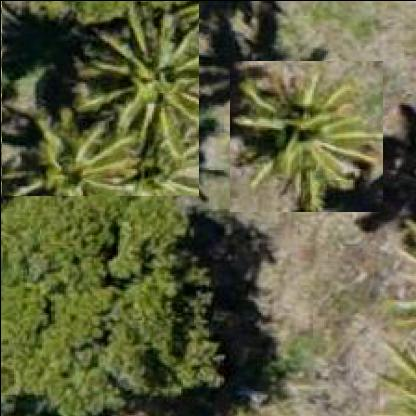coconut tree: (2, 0, 200, 196), (229, 60, 383, 212)
